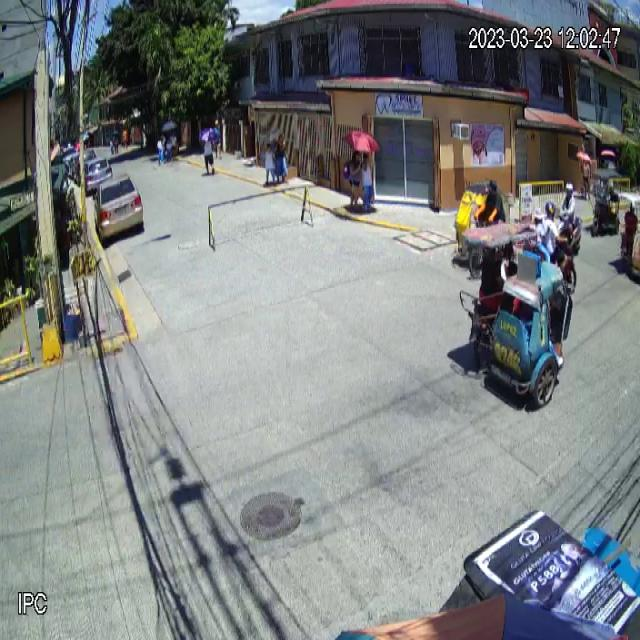Tricycle: (458, 222, 574, 406)
